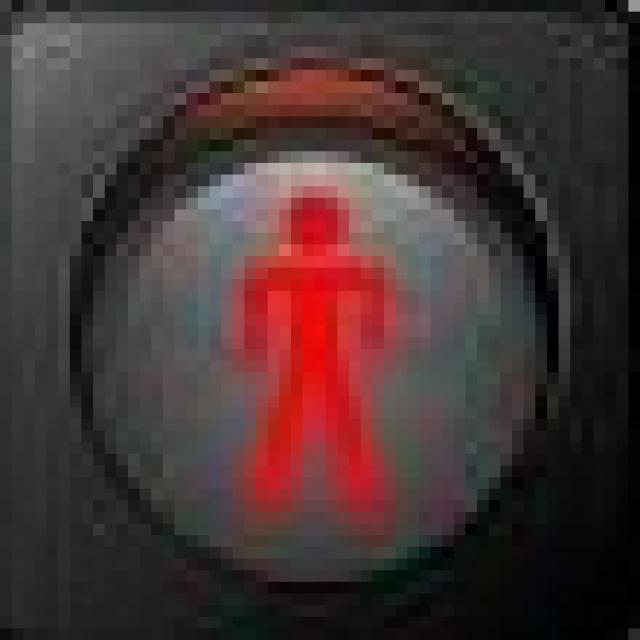red-crossing: (174, 143, 430, 526)
